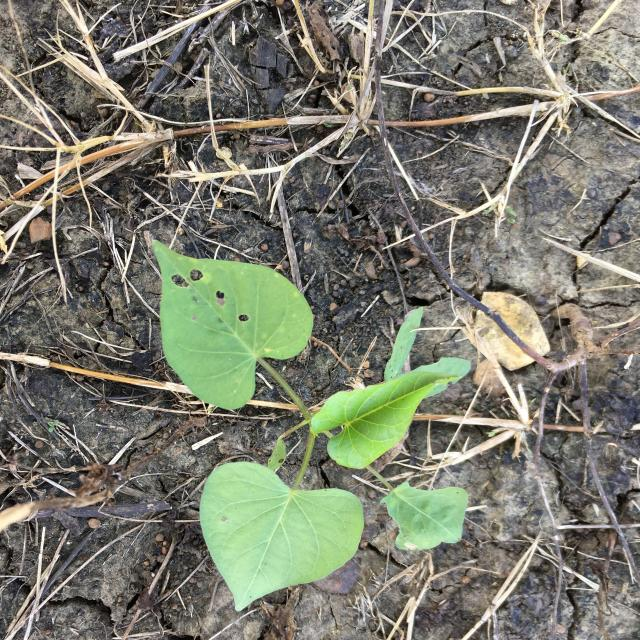MorningGlory: (152, 240, 470, 610)
